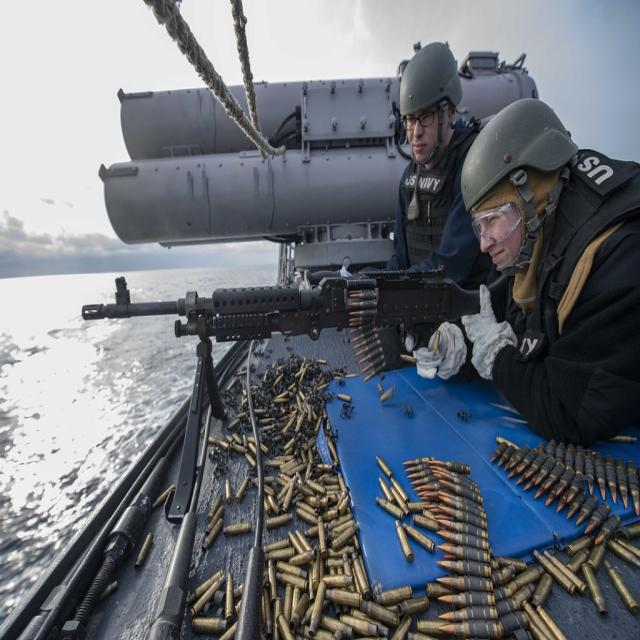Gun: (44, 241, 466, 512)
